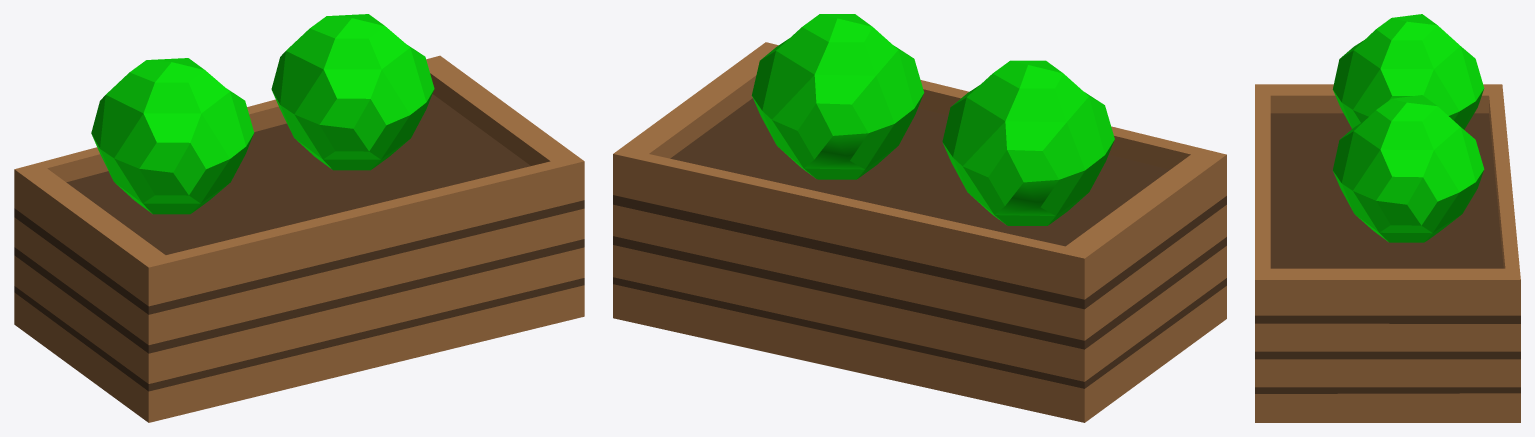
The model's file is Prop_PlantBox_Mod.fbx.
3 views of the same model, side by side, from view 1: azimuth 30°, elevation 25°; view 2: azimuth 150°, elevation 25°; view 3: azimuth 270°, elevation 25° (orthographic). The views are drawn at different scales.
Parts seen in each view (by area): view 1: Double_pot_2; view 2: Double_pot_2; view 3: Double_pot_2.
Boxes of the visible parts, x1,y1,x2,y2 form: Double_pot_2: (14, 14, 584, 422); Double_pot_2: (613, 14, 1226, 422); Double_pot_2: (1255, 14, 1520, 422).
Bounding box in the file's own units: 1.79 × 1.08 × 1.02.
